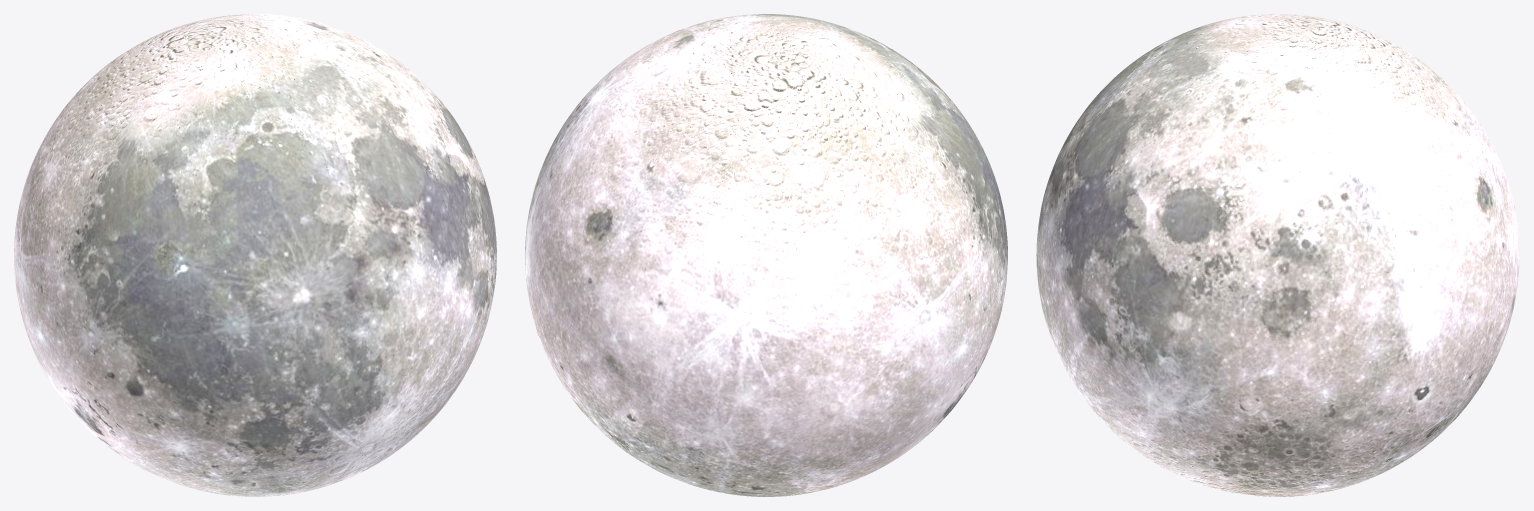
Rendered from moon-scene.glb.
3 renders of one model, left to right at view 1: azimuth 30°, elevation 25°; view 2: azimuth 150°, elevation 25°; view 3: azimuth 270°, elevation 25°, orthographic.
Parts seen in each view (by area): view 1: Object_3; view 2: Object_3; view 3: Object_3.
Boxes of the visible parts, x1,y1,x2,y2 form: Object_3: (14, 14, 496, 496); Object_3: (525, 14, 1007, 496); Object_3: (1036, 14, 1519, 496).
Bounding box in the file's own units: 0.8657 × 0.8657 × 0.8657.
Materials: 1 (1 with a texture image).
